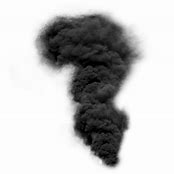smoke: (37, 14, 134, 164)
